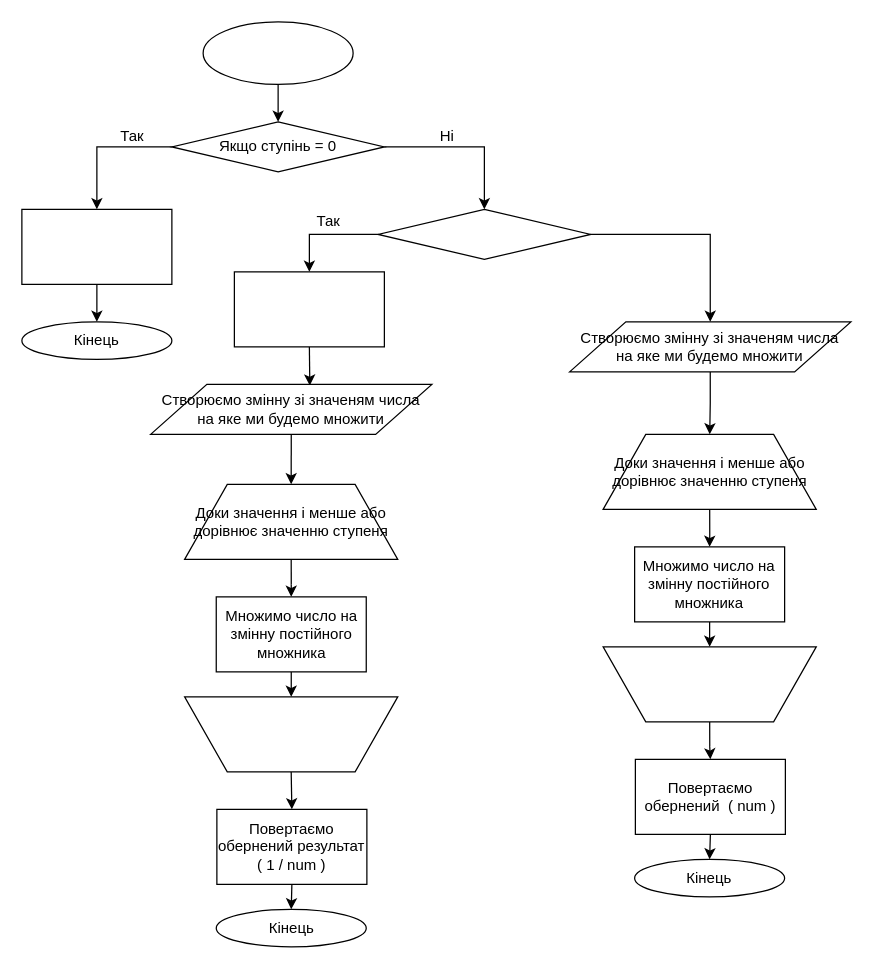
Some shapes in this 874 by 969 pixel diagram are drawn without their labels. Each missing label, with the centre of its shape:
"Виклик функції взяття у ступінь" belongs at (x=277, y=52).
"Повертаємо значення 1" belongs at (x=96, y=246).
"Помножаємо ступінь на -1, і робимо його додатнім" belongs at (x=308, y=309).
"Якщо ступінь < 0" belongs at (x=484, y=233).
